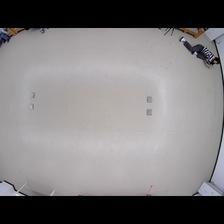fall: (178, 35, 222, 65)
